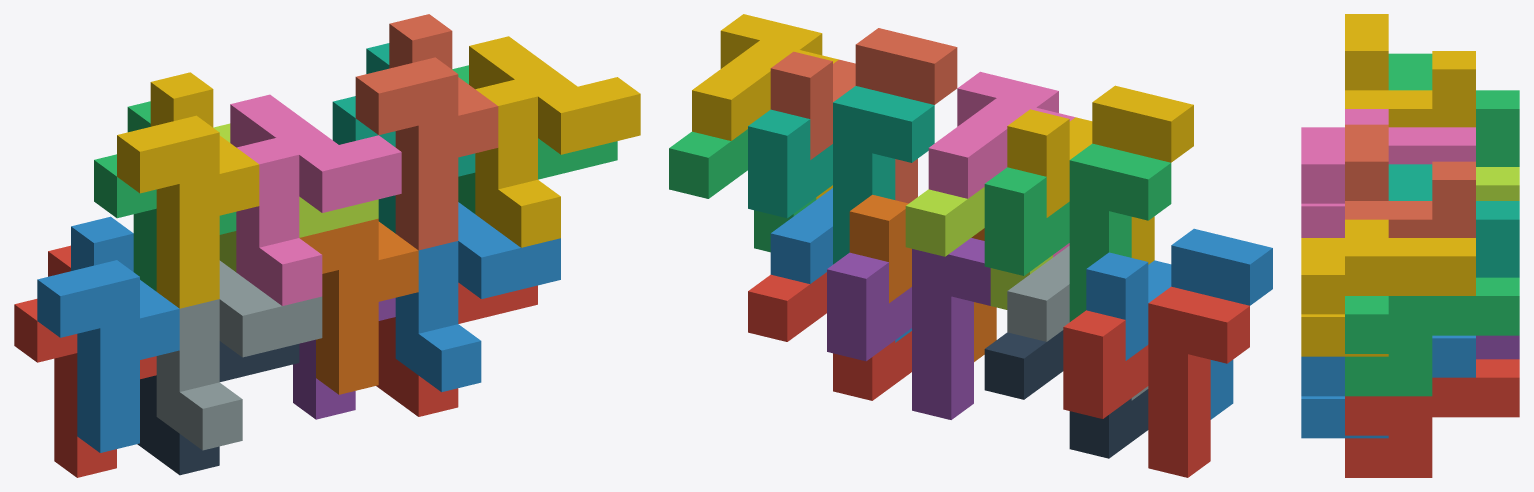
The model's file is tiling.obj.
3 renders of one model, left to right at view 1: azimuth 30°, elevation 25°; view 2: azimuth 150°, elevation 25°; view 3: azimuth 270°, elevation 25°, orthographic. The views are drawn at different scales.
Parts seen in each view (by area): view 1: copy_2_domain_4, copy_2_domain_8, copy_1_domain_4, copy_1_domain_2, copy_1_domain_8, copy_2_domain_2, copy_2_domain_6, copy_1_domain_6, copy_1_domain_1, copy_2_domain_5, copy_2_domain_1, copy_1_domain_3 (+4 smaller); view 2: copy_1_domain_1, copy_1_domain_5, copy_1_domain_3, copy_1_domain_7, copy_1_domain_2, copy_1_domain_4, copy_1_domain_8, copy_2_domain_4, copy_2_domain_8, copy_2_domain_1, copy_2_domain_5, copy_1_domain_6 (+4 smaller); view 3: copy_2_domain_8, copy_2_domain_7, copy_2_domain_5, copy_1_domain_8, copy_1_domain_4, copy_2_domain_4, copy_2_domain_6, copy_1_domain_3, copy_1_domain_7, copy_2_domain_3, copy_1_domain_5.
Boxes of the visible parts, x1=… form: copy_2_domain_4: x1=230, y1=94, x2=401, y2=305; copy_2_domain_8: x1=469, y1=36, x2=640, y2=247; copy_1_domain_4: x1=117, y1=72, x2=259, y2=308; copy_1_domain_2: x1=37, y1=216, x2=179, y2=452; copy_1_domain_8: x1=355, y1=14, x2=498, y2=250; copy_2_domain_2: x1=156, y1=260, x2=322, y2=450; copy_2_domain_6: x1=395, y1=202, x2=560, y2=392; copy_1_domain_6: x1=299, y1=218, x2=418, y2=394; copy_1_domain_1: x1=14, y1=245, x2=156, y2=477; copy_2_domain_5: x1=376, y1=282, x2=537, y2=416; copy_2_domain_1: x1=137, y1=341, x2=299, y2=475; copy_1_domain_3: x1=94, y1=101, x2=236, y2=291; copy_1_domain_1: x1=1063, y1=286, x2=1249, y2=477; copy_1_domain_5: x1=827, y1=238, x2=990, y2=419; copy_1_domain_3: x1=984, y1=143, x2=1171, y2=321; copy_1_domain_7: x1=748, y1=86, x2=934, y2=264; copy_1_domain_2: x1=1086, y1=228, x2=1272, y2=419; copy_1_domain_4: x1=1007, y1=85, x2=1193, y2=264; copy_1_domain_8: x1=770, y1=28, x2=957, y2=203; copy_2_domain_4: x1=928, y1=71, x2=1075, y2=257; copy_2_domain_8: x1=692, y1=14, x2=838, y2=199; copy_2_domain_1: x1=984, y1=330, x2=1148, y2=458; copy_2_domain_5: x1=748, y1=272, x2=911, y2=400; copy_1_domain_6: x1=849, y1=194, x2=996, y2=361; copy_2_domain_8: x1=1301, y1=219, x2=1475, y2=356; copy_2_domain_7: x1=1345, y1=277, x2=1519, y2=396; copy_2_domain_5: x1=1345, y1=359, x2=1519, y2=477; copy_1_domain_8: x1=1345, y1=124, x2=1475, y2=237; copy_1_domain_4: x1=1345, y1=14, x2=1475, y2=127; copy_2_domain_4: x1=1301, y1=109, x2=1475, y2=237; copy_2_domain_6: x1=1301, y1=335, x2=1475, y2=438; copy_1_domain_3: x1=1388, y1=53, x2=1519, y2=166; copy_1_domain_7: x1=1388, y1=164, x2=1519, y2=277; copy_2_domain_3: x1=1476, y1=167, x2=1519, y2=200; copy_1_domain_5: x1=1476, y1=335, x2=1519, y2=359.
Bounding box in the file's own units: 14 × 8 × 5.
